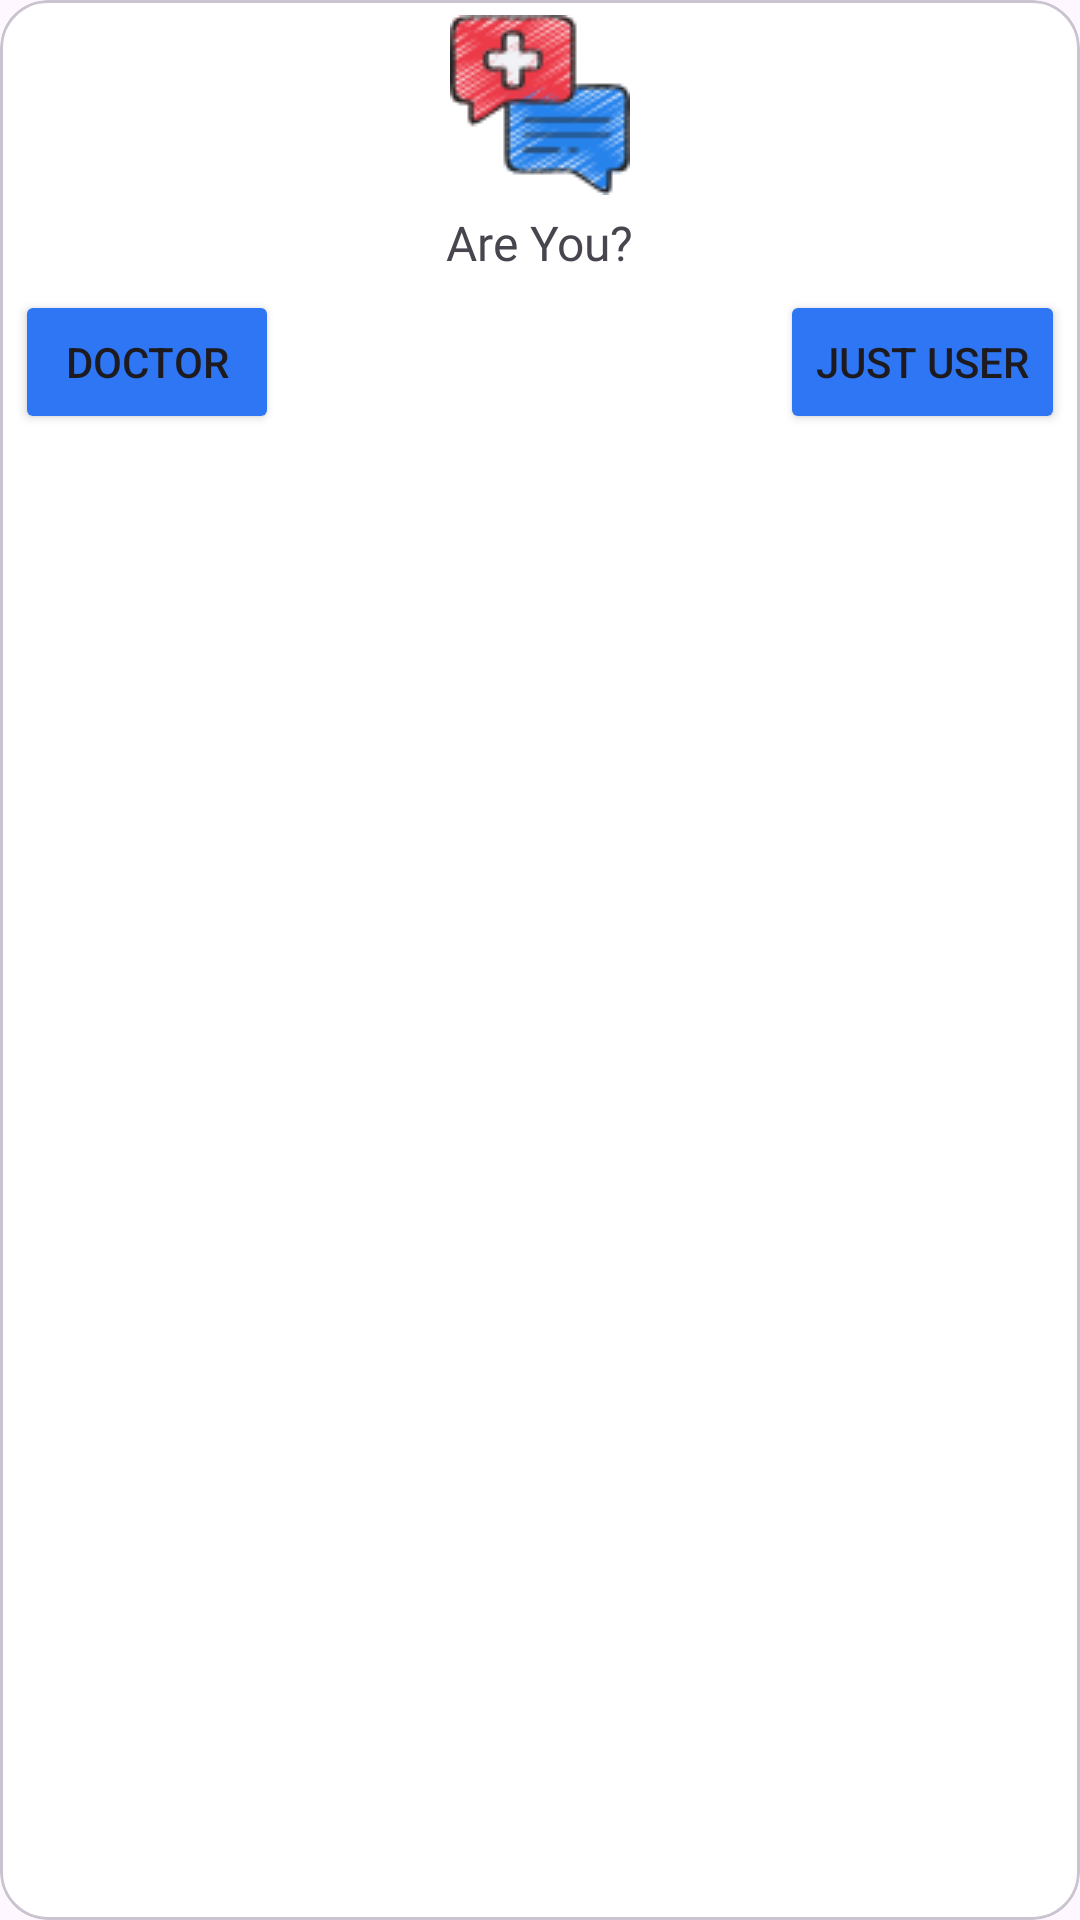

Where to tap for icons on this 1080x1920 app screen, as (x=x, y=y):
health info: (x=540, y=105)
